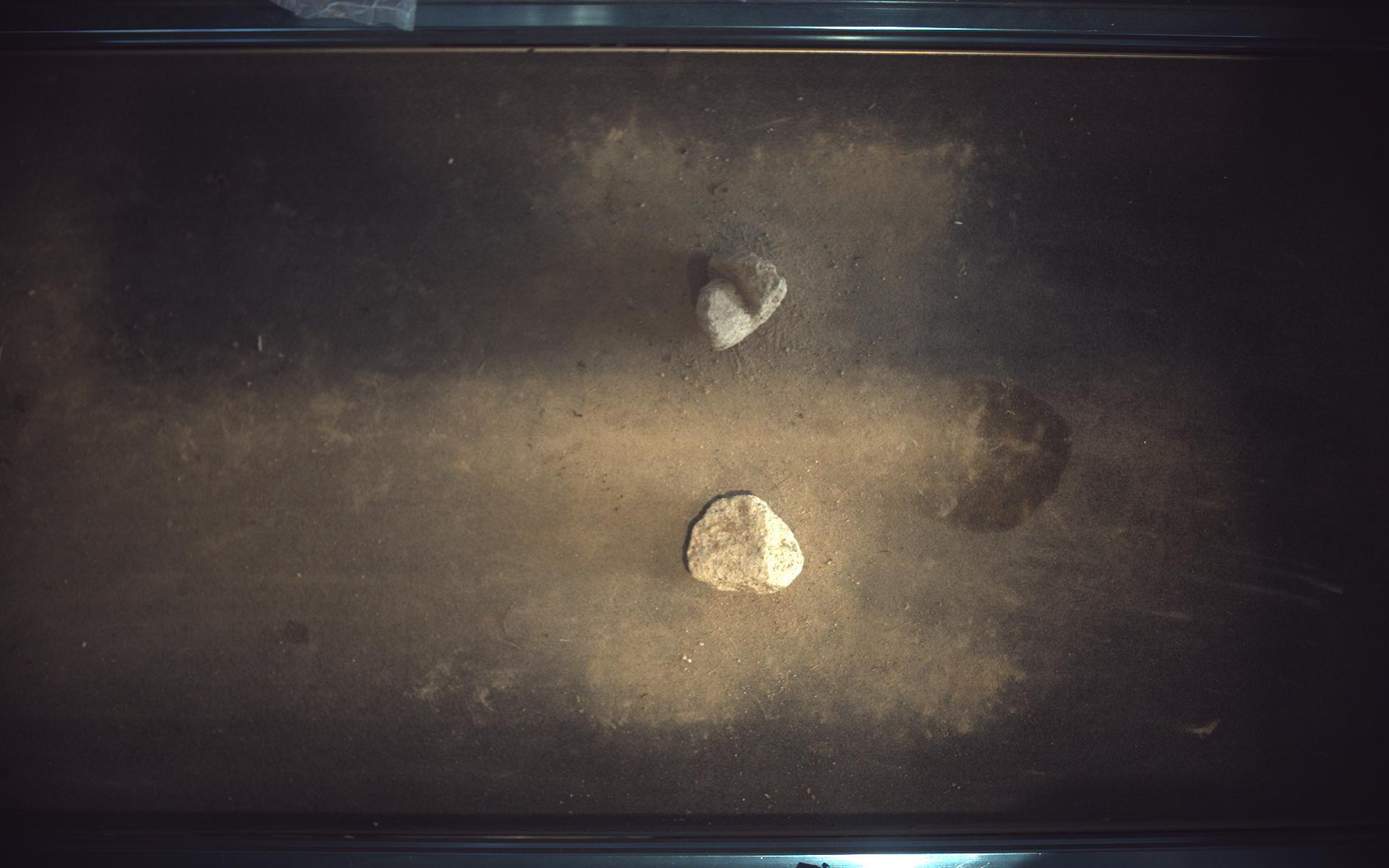stone: (687, 494, 804, 594), (697, 252, 789, 350)
